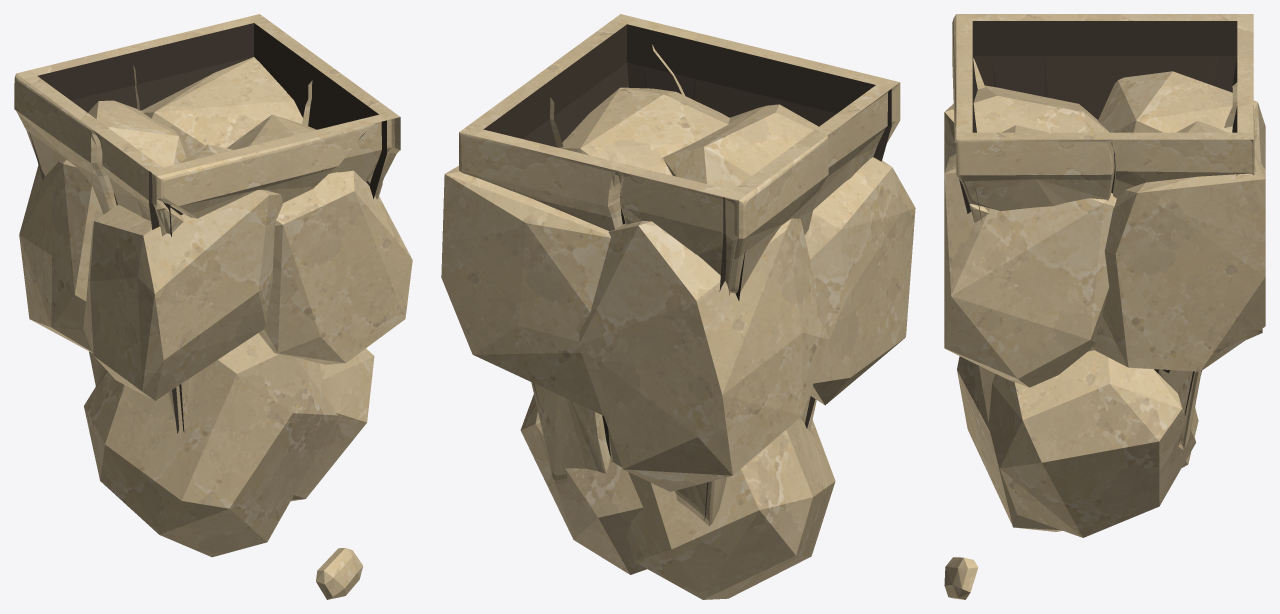
The model's file is ground_bottom_island_01.glb.
The picture shows the model from 3 angles, left to right: view 1: azimuth 30°, elevation 25°; view 2: azimuth 150°, elevation 25°; view 3: azimuth 270°, elevation 25°; orthographic projection. The views are drawn at different scales.
Parts seen in each view (by area): view 1: GroundBottomIsland01_Body; view 2: GroundBottomIsland01_Body; view 3: GroundBottomIsland01_Body.
Part boxes in pixels (box(x1,y1,x2,y2)): GroundBottomIsland01_Body: box(14, 14, 412, 599); GroundBottomIsland01_Body: box(441, 14, 915, 599); GroundBottomIsland01_Body: box(944, 14, 1265, 599).
Size of the model in its own units: 1.08 by 1.82 by 1.08.
Materials: 17 (16 with a texture image).
